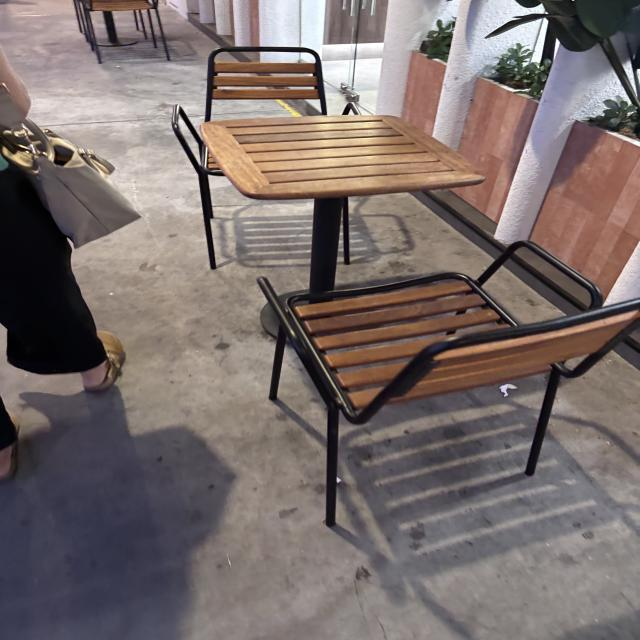Chair: (242, 226, 638, 540)
